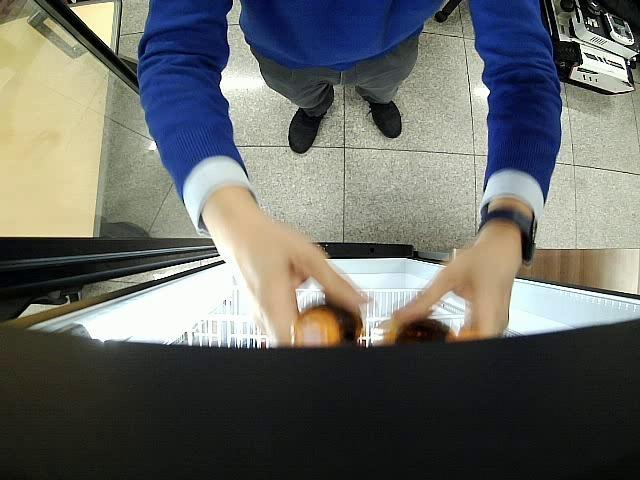17_vita500: (294, 304, 364, 346), (372, 316, 460, 348)
